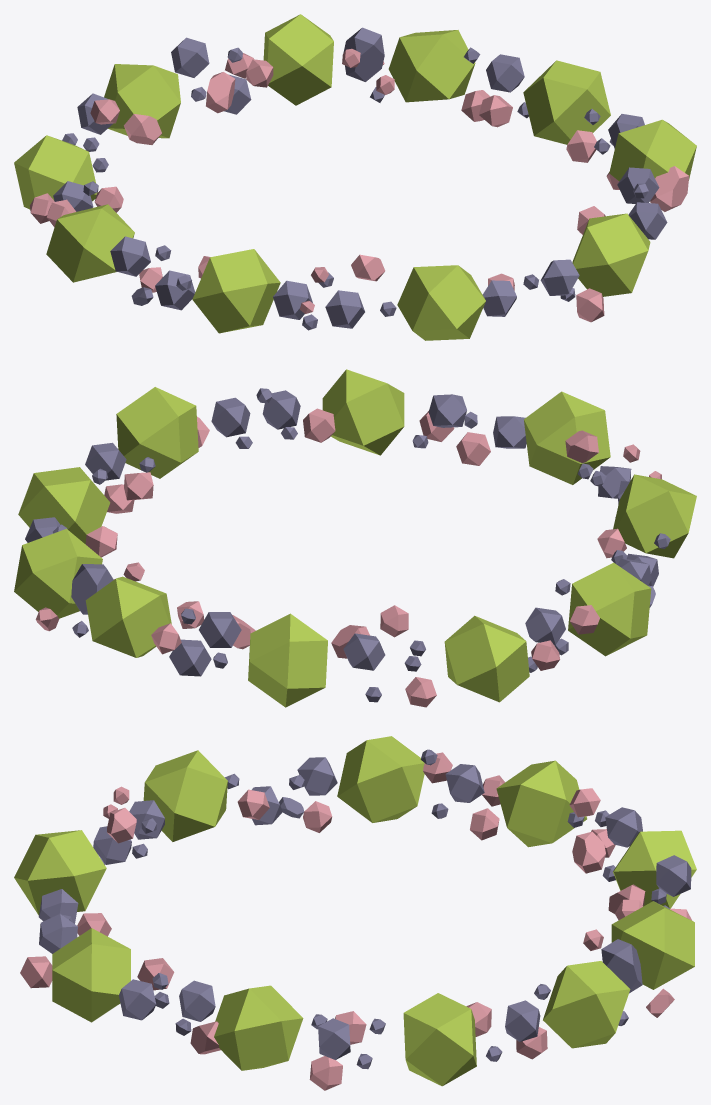
File: ring5.fbx
3 renders of one model, top to bottom at view 1: azimuth 30°, elevation 25°; view 2: azimuth 150°, elevation 25°; view 3: azimuth 270°, elevation 25°, orthographic. The views are drawn at different scales.
Parts seen in each view (by area): view 1: ring5; view 2: ring5; view 3: ring5.
Boxes of the visible parts, box(x1,y1,x2,y2) form: ring5: box(14, 14, 696, 340); ring5: box(14, 369, 696, 707); ring5: box(14, 736, 696, 1090).
Bounding box in the file's own units: 385 × 63.37 × 386.
